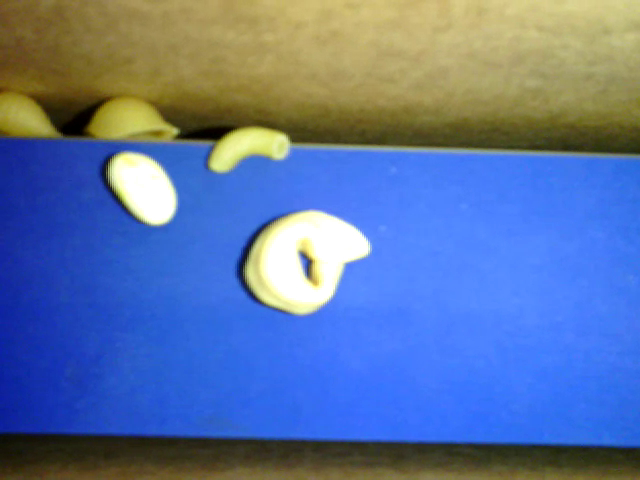elbow: (204, 124, 291, 173)
shell: (85, 93, 179, 143), (1, 83, 69, 139)
tortellini: (232, 204, 373, 317)
